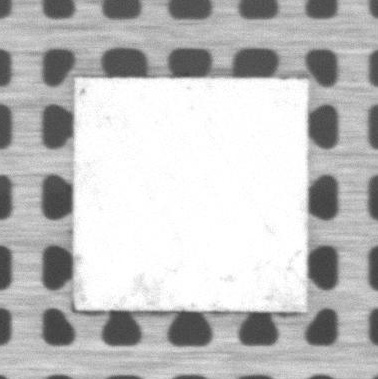DIE_INK: (268, 288, 304, 310), (75, 256, 90, 300), (132, 276, 160, 299), (217, 273, 237, 285), (77, 81, 90, 99)
